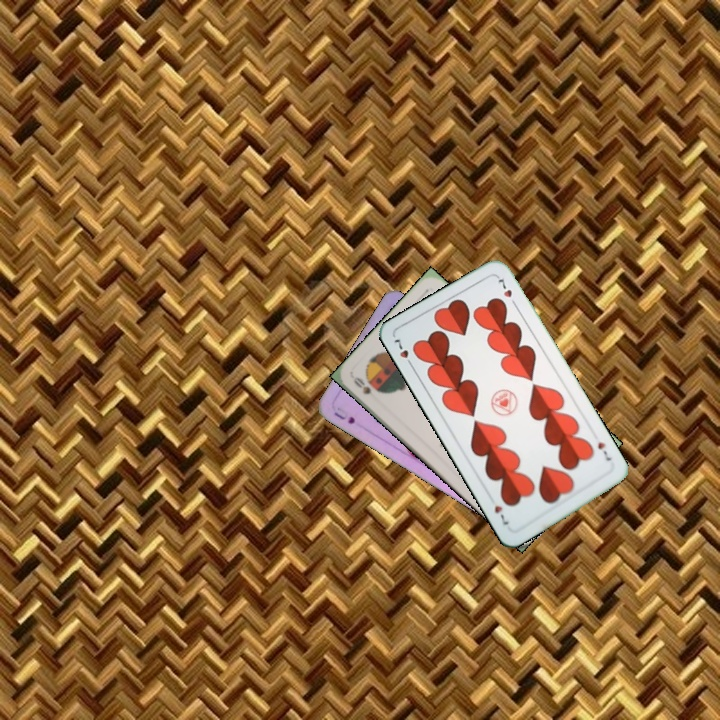H7: (390, 335, 416, 371), (594, 438, 614, 464)
SO: (349, 373, 374, 397)
SU: (330, 408, 358, 427)
